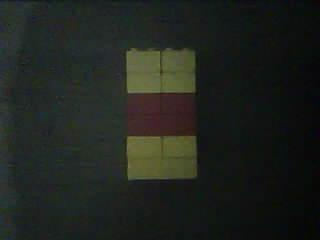lego: (125, 46, 197, 179)
